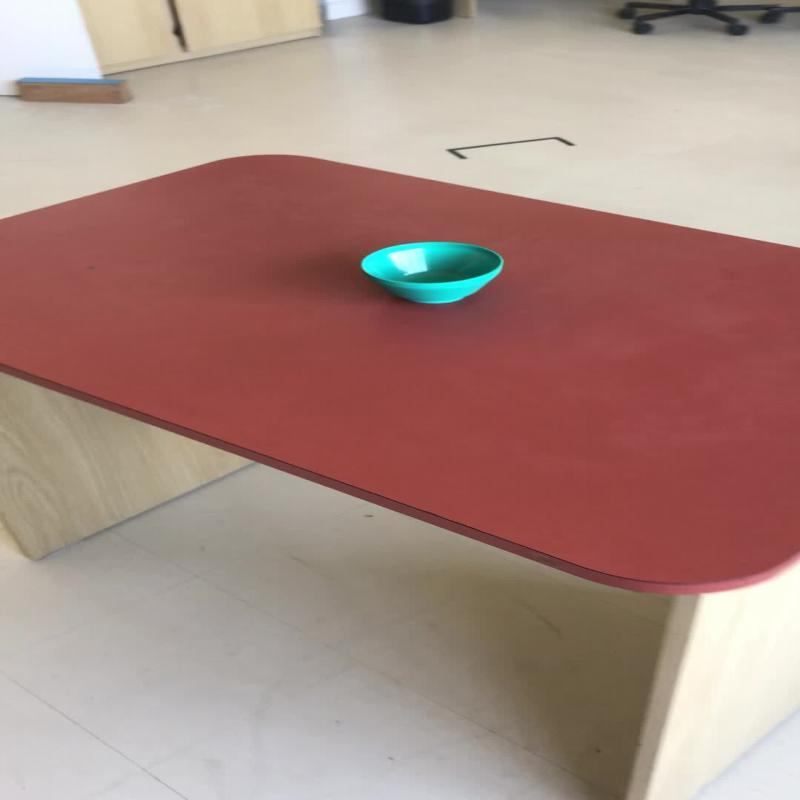bowl: (358, 240, 503, 303)
